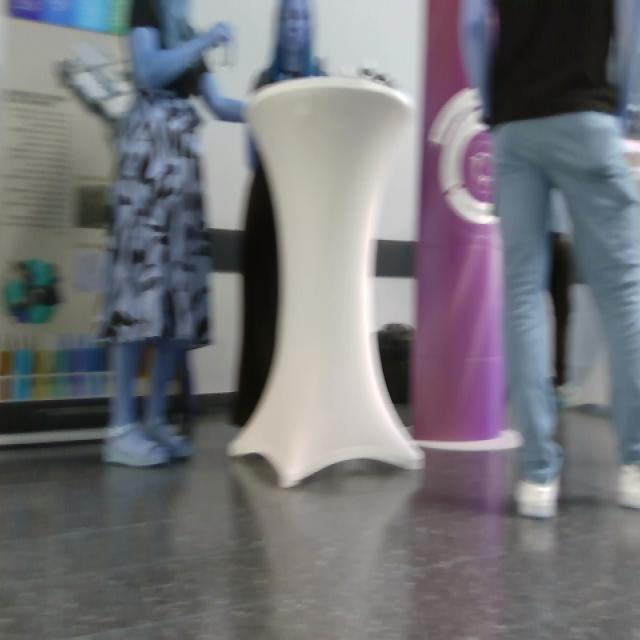light bulb: (226, 73, 427, 489)
person: (464, 1, 640, 520)
tiled floor: (1, 397, 639, 637)
window: (1, 1, 428, 438)
